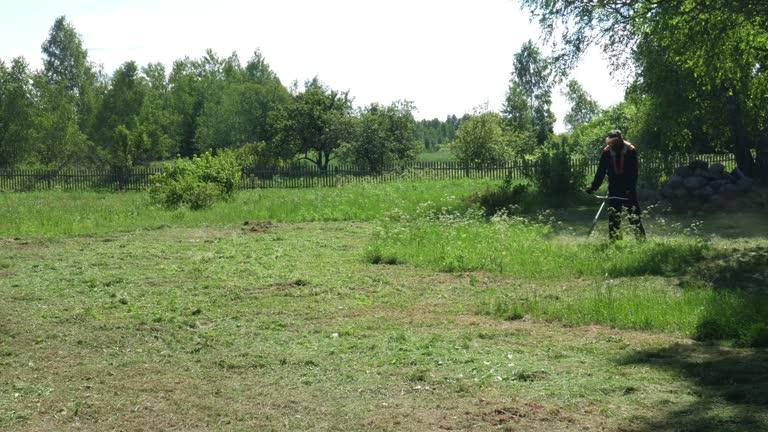overgrown grass: (0, 181, 493, 235), (365, 224, 693, 278), (484, 287, 767, 346)
